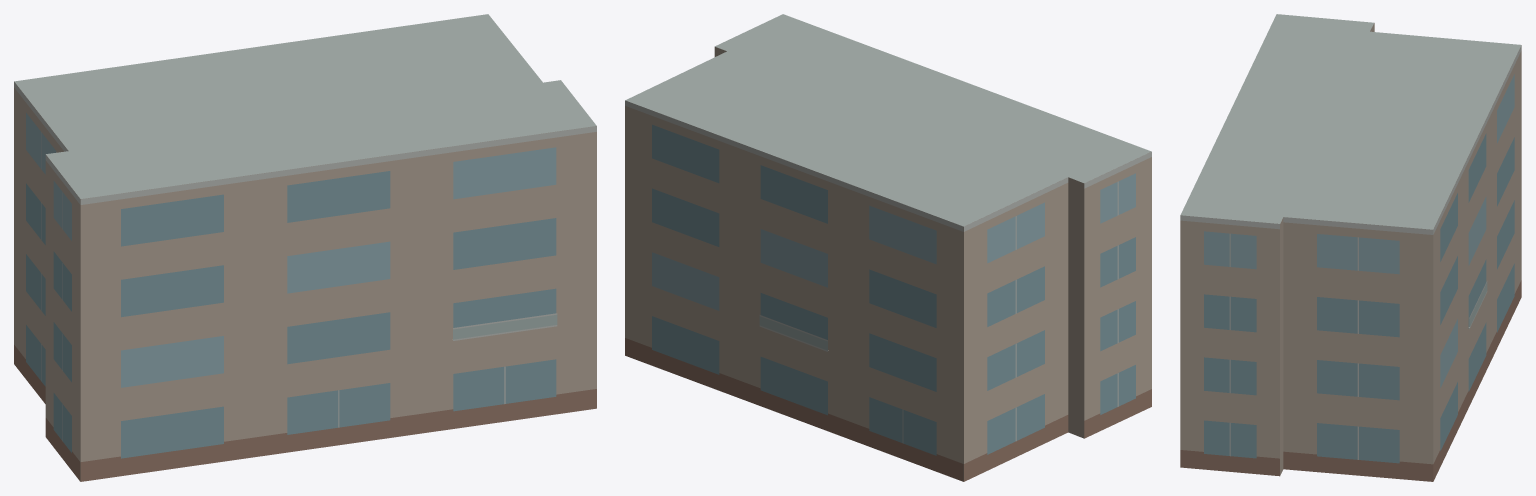
Rendered from survey-upis-32828238.glb.
3 renders of one model, left to right at view 1: azimuth 30°, elevation 25°; view 2: azimuth 150°, elevation 25°; view 3: azimuth 270°, elevation 25°, orthographic. The views are drawn at different scales.
Visible parts, largest first — view 1: survey-upis-32828238.tmp; view 2: survey-upis-32828238.tmp; view 3: survey-upis-32828238.tmp.
Part boxes in pixels (box(x1,y1,x2,y2)): survey-upis-32828238.tmp: box(14, 14, 596, 481); survey-upis-32828238.tmp: box(625, 14, 1151, 481); survey-upis-32828238.tmp: box(1180, 14, 1521, 481).
Bounding box in the file's own units: 21.29 × 11.6 × 14.24.
